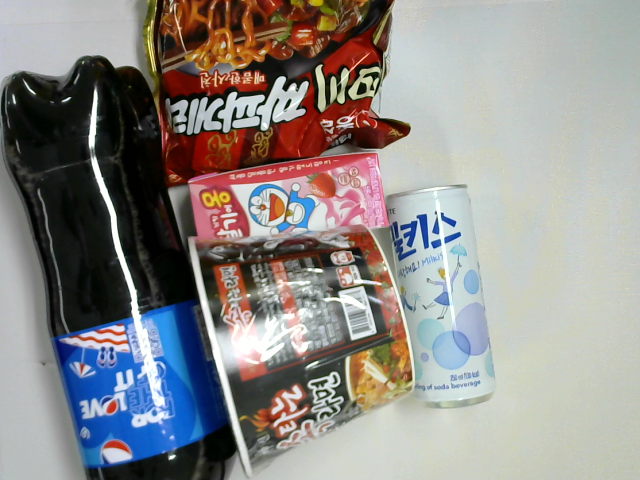HeJangsock: (188, 226, 415, 478)
Milkies_250ml: (385, 181, 499, 411)
Pepsi_Cola_1.5L: (1, 55, 227, 480)
Sichuan_Chapaghetti: (144, 1, 413, 189)
Strawberry_E_Mong: (189, 152, 390, 238)
